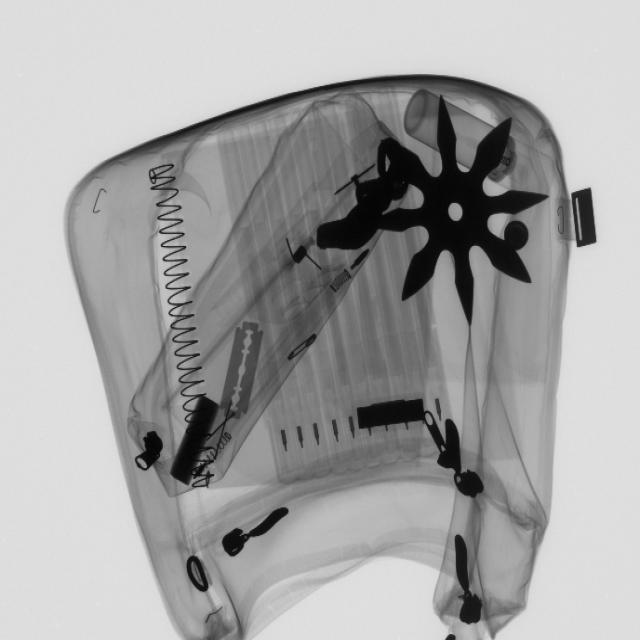BLADE: (218, 317, 269, 426)
SHURIKEN: (362, 97, 549, 328)
